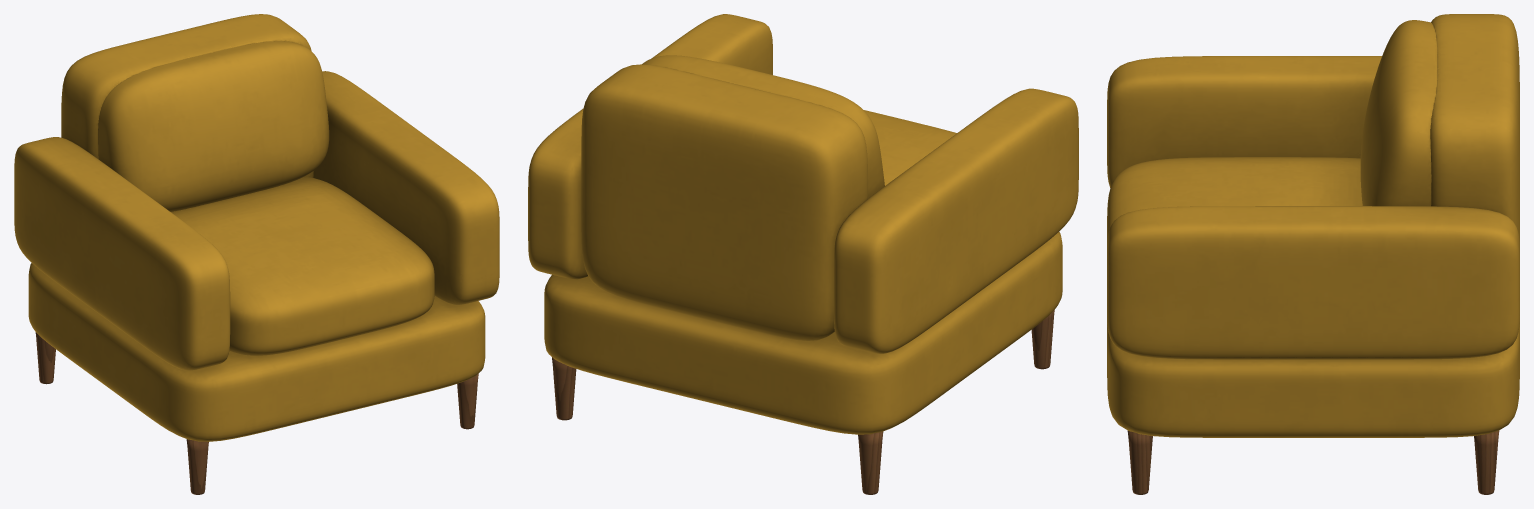
Rendered from modern-mustard.glb.
3 renders of one model, left to right at view 1: azimuth 30°, elevation 25°; view 2: azimuth 150°, elevation 25°; view 3: azimuth 270°, elevation 25°, orthographic. The views are drawn at different scales.
Visible parts, largest first — view 1: fabric_primary, wood_legs; view 2: fabric_primary, wood_legs; view 3: fabric_primary, wood_legs.
Boxes of the visible parts, x1=… form: fabric_primary: x1=14, y1=14, x2=499, y2=441; wood_legs: x1=35, y1=332, x2=478, y2=494; fabric_primary: x1=528, y1=14, x2=1078, y2=434; wood_legs: x1=552, y1=310, x2=1054, y2=494; fabric_primary: x1=1107, y1=14, x2=1519, y2=437; wood_legs: x1=1127, y1=430, x2=1499, y2=494.
Size of the model in its own units: 0.88 by 0.8192 by 0.86.
2 materials, 2 textured.
